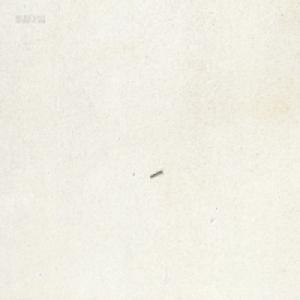Bolt: (149, 167, 162, 178)
